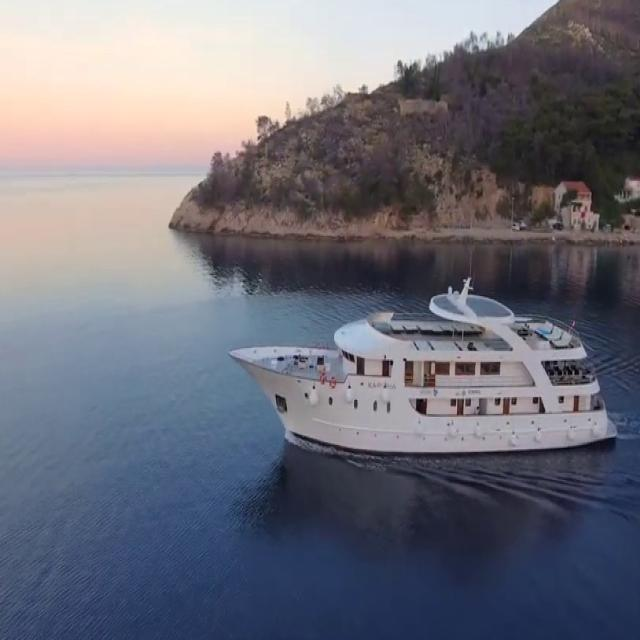passenger ship: (225, 283, 612, 452)
